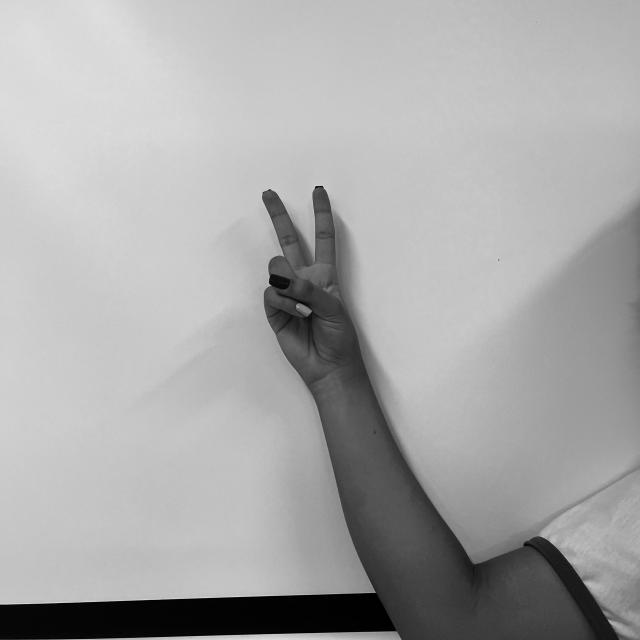Letra V: (258, 182, 369, 374)
